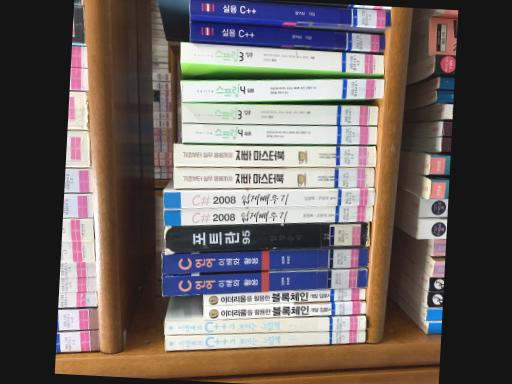book-spine: (164, 221, 369, 253), (180, 42, 383, 72), (190, 20, 385, 50), (161, 268, 367, 295), (190, 0, 389, 27), (161, 248, 368, 273), (173, 143, 376, 165), (181, 78, 384, 100), (181, 102, 378, 124), (164, 330, 365, 350), (174, 167, 374, 187), (164, 205, 372, 224), (162, 189, 374, 207), (181, 124, 377, 143), (164, 317, 366, 334), (203, 301, 365, 319), (202, 288, 365, 305)
